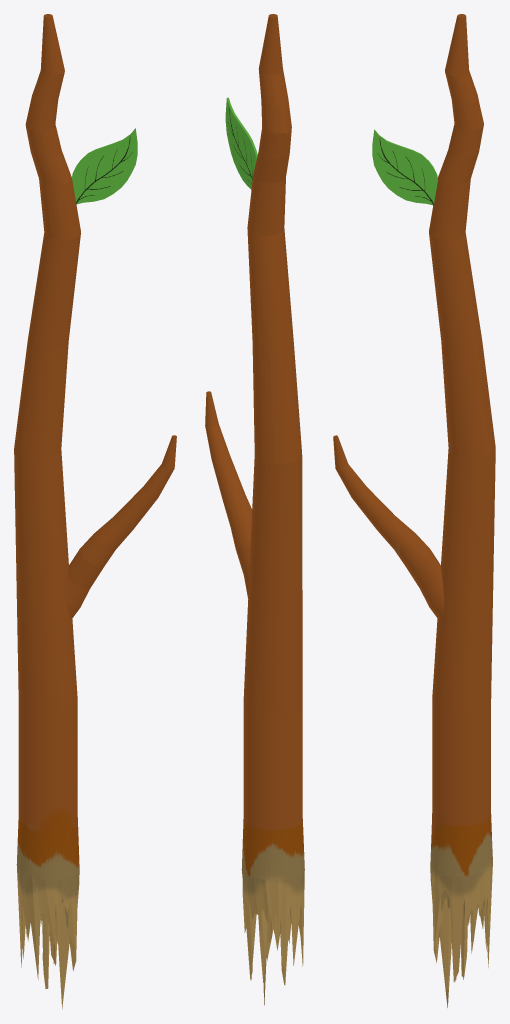
Rendered from beautyWand.glb.
The picture shows the model from 3 angles, left to right: view 1: azimuth 90°, elevation 25°; view 2: azimuth 210°, elevation 25°; view 3: azimuth 270°, elevation 25°; orthographic projection.
Visible parts, largest first — view 1: Cylinder; view 2: Cylinder; view 3: Cylinder.
Boxes of the visible parts, x1,y1,x2,y2 form: Cylinder: (14, 14, 176, 1009); Cylinder: (205, 14, 304, 1005); Cylinder: (333, 14, 495, 1007).
Bounding box in the file's own units: 0.0532 × 0.929 × 0.1378.
Materials: 2 (2 with a texture image).
